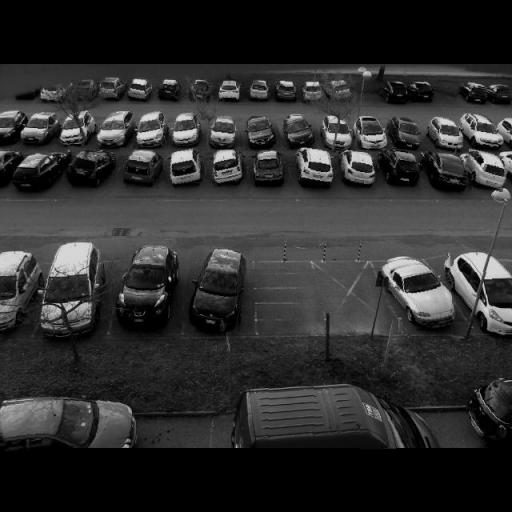busy: (232, 386, 397, 449), (24, 242, 112, 342), (0, 394, 134, 451), (106, 242, 180, 326), (382, 253, 460, 331), (182, 244, 246, 332), (450, 251, 512, 338), (465, 380, 511, 446), (2, 250, 36, 326), (6, 152, 66, 192), (62, 147, 114, 189), (421, 154, 475, 192), (293, 146, 339, 188), (462, 150, 509, 190), (160, 149, 206, 189), (116, 148, 162, 188), (336, 150, 380, 188), (376, 150, 422, 186), (458, 114, 504, 150), (423, 116, 467, 153), (128, 110, 170, 148), (247, 149, 289, 187), (206, 148, 247, 186), (91, 113, 135, 148), (16, 114, 60, 147), (279, 114, 319, 150), (384, 118, 427, 151), (240, 116, 280, 151), (202, 116, 241, 150), (54, 112, 92, 146), (317, 116, 353, 151), (167, 112, 203, 147), (353, 118, 391, 150), (324, 79, 356, 105), (457, 82, 492, 105), (123, 77, 154, 102), (66, 81, 97, 105), (378, 81, 410, 103), (154, 79, 184, 102), (95, 78, 124, 101), (212, 81, 242, 103), (34, 84, 68, 103), (186, 79, 214, 102), (0, 113, 21, 143), (406, 81, 434, 103), (299, 80, 323, 102), (0, 154, 16, 187), (272, 81, 298, 101), (246, 81, 271, 101), (486, 85, 512, 104), (497, 120, 511, 149)
free: (430, 87, 456, 105)
